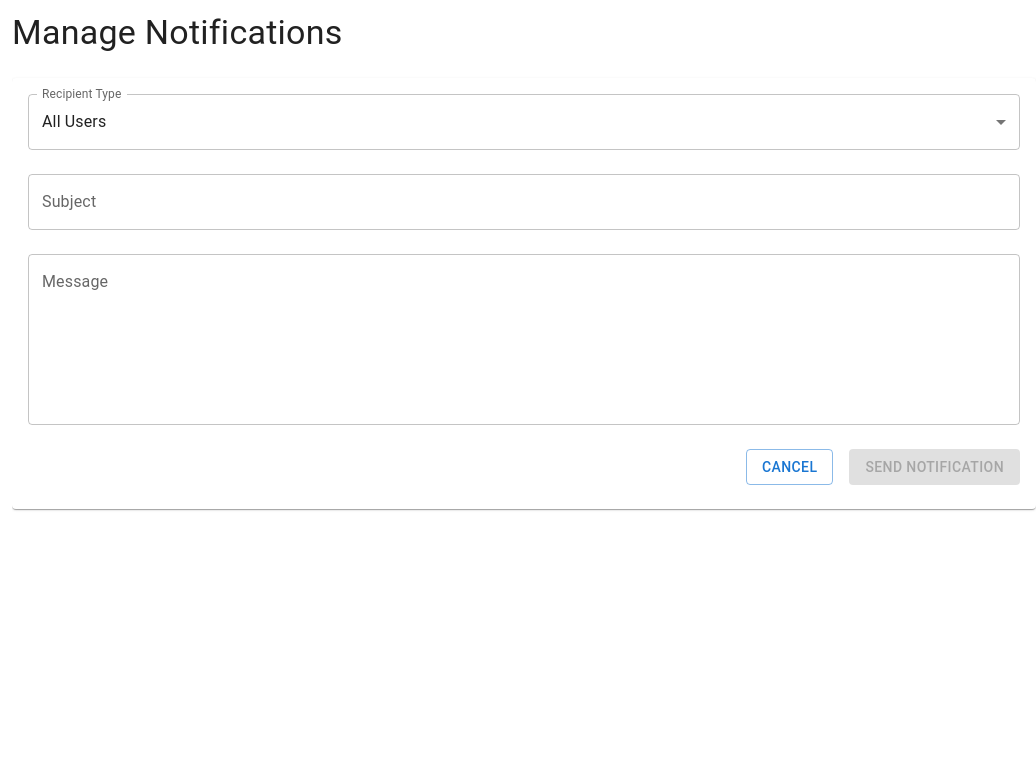
Test: ManageNotifications › handles API errors
Type "Test" into the field labelled "Subject" at (524, 202), box [28,174,1020,230]
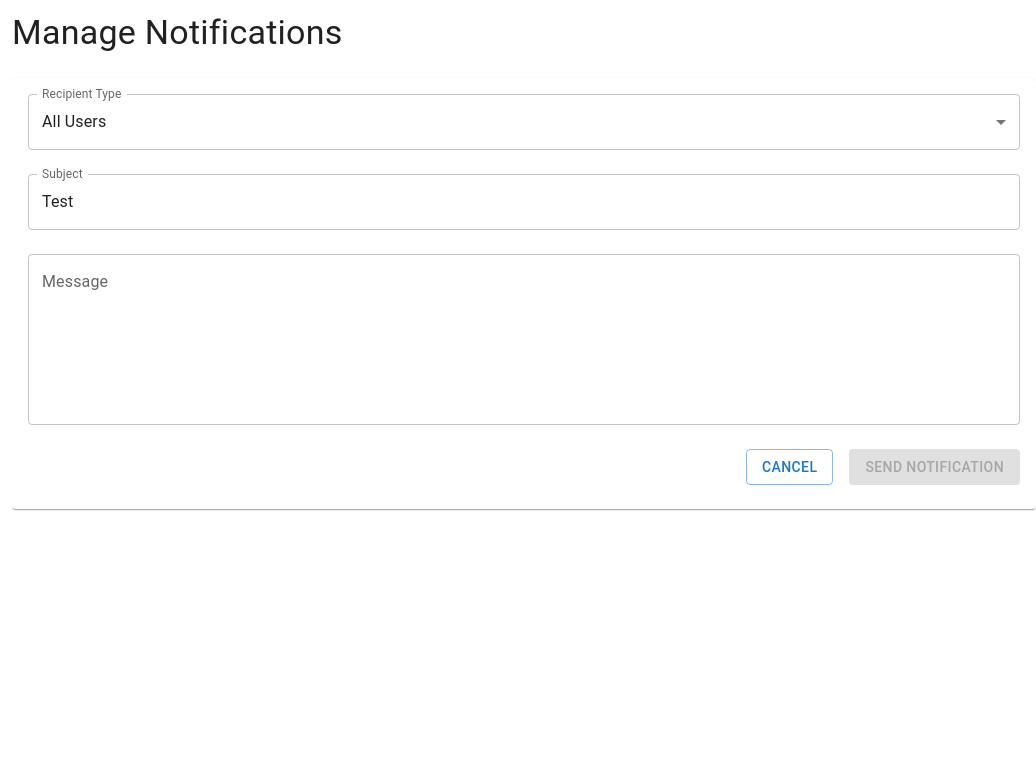
Type "Test" into the text box labelled "Message" at (524, 340), box [42,270,1006,408]
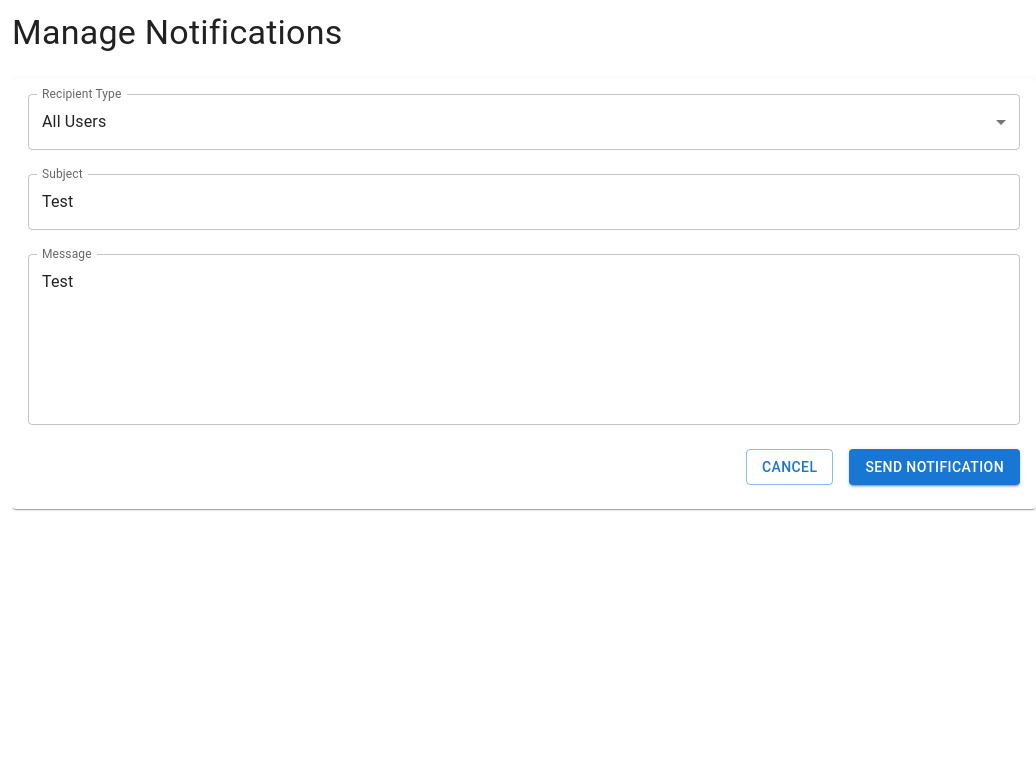
Click the button "Send Notification" at (935, 467), box [849,449,1020,486]
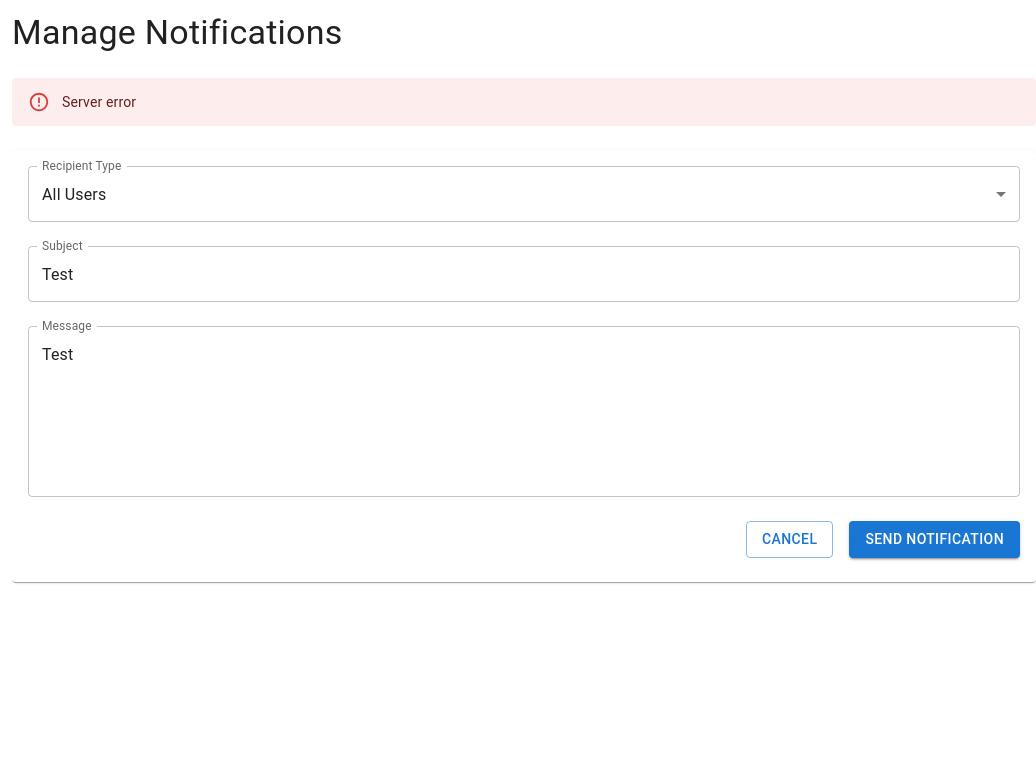
Expected: the text "Server error" is shown, [62,94,136,110]
